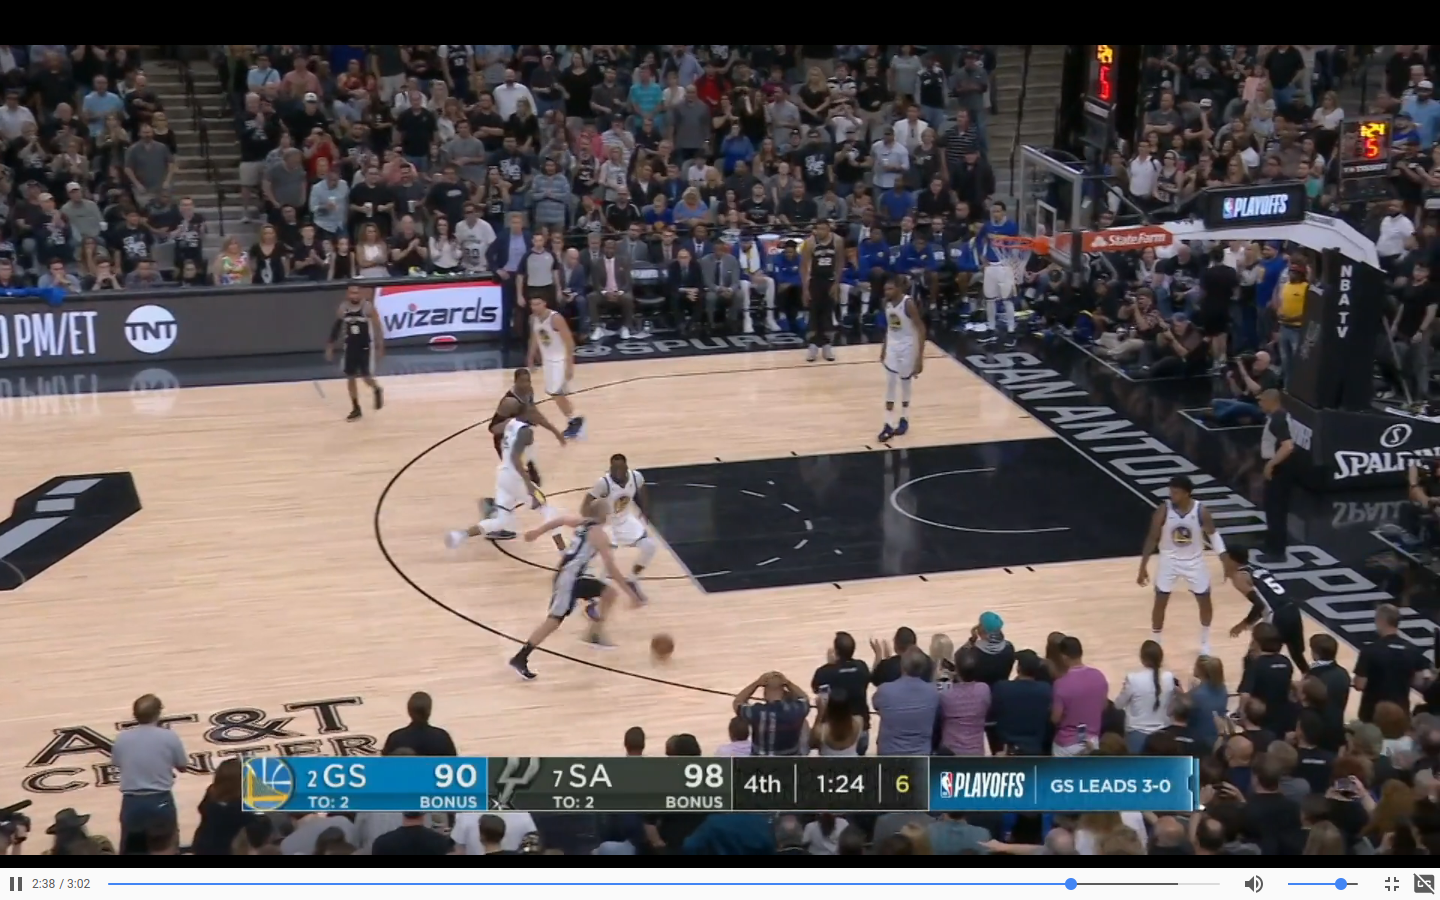basketball: (645, 629, 678, 669)
basketball player: (518, 500, 627, 682), (1133, 472, 1230, 657), (447, 408, 555, 543), (587, 454, 664, 597), (873, 276, 930, 446), (1225, 540, 1308, 654), (525, 291, 592, 431), (325, 285, 392, 423), (793, 216, 845, 369)
referee: (1253, 385, 1301, 562), (515, 234, 567, 312)
